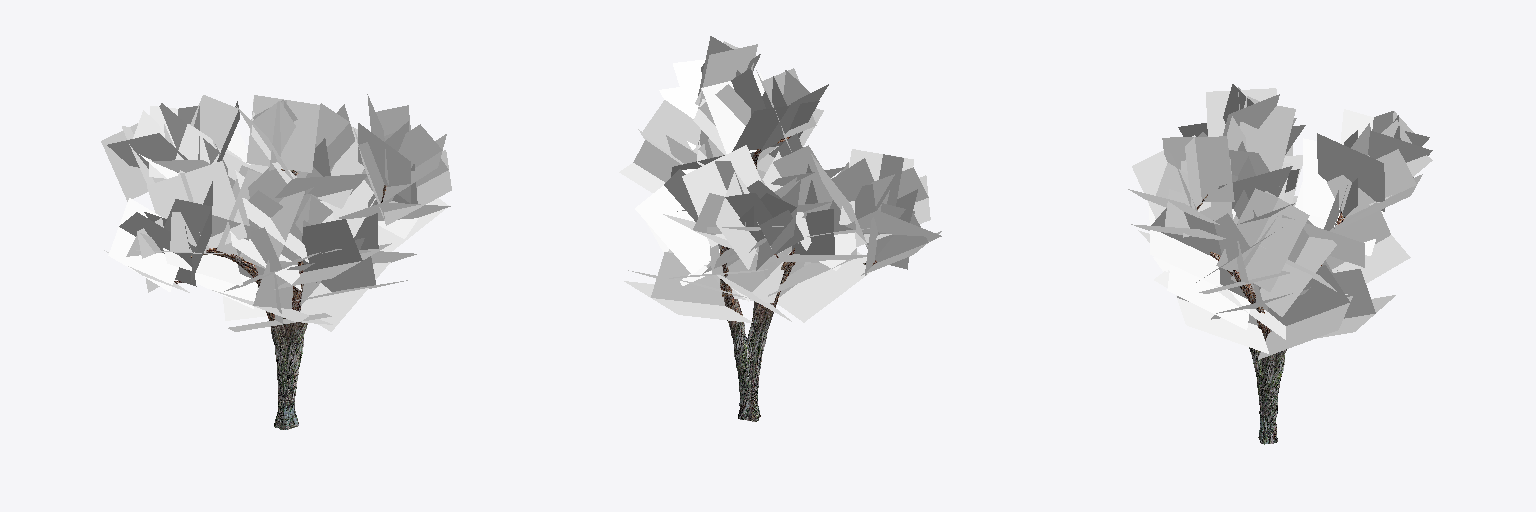
3 renders of one model, left to right at view 1: azimuth 30°, elevation 25°; view 2: azimuth 150°, elevation 25°; view 3: azimuth 270°, elevation 25°, orthographic.
Parts seen in each view (by area): view 1: tree; view 2: tree; view 3: tree.
Boxes of the visible parts, x1=… form: tree: x1=101, y1=94, x2=451, y2=429; tree: x1=619, y1=36, x2=941, y2=421; tree: x1=1128, y1=84, x2=1432, y2=444.
Bounding box in the file's own units: 70.63 × 71.79 × 58.18.
Materials: 2 (1 with a texture image).